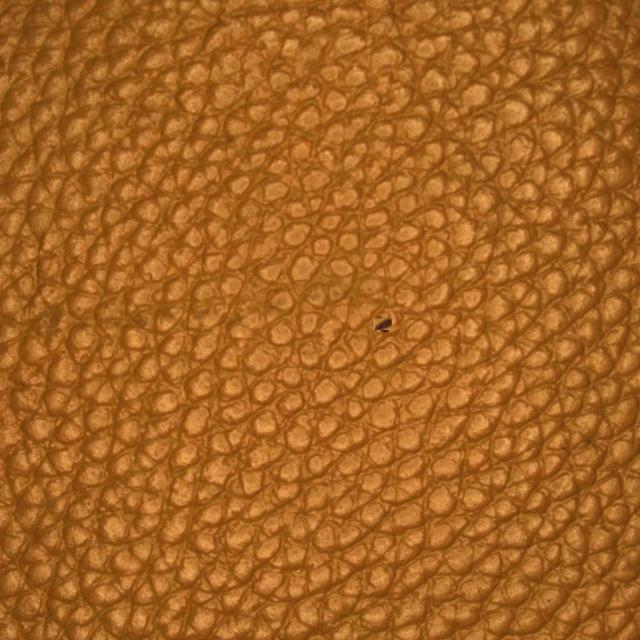pinhole: (325, 231, 442, 419)
